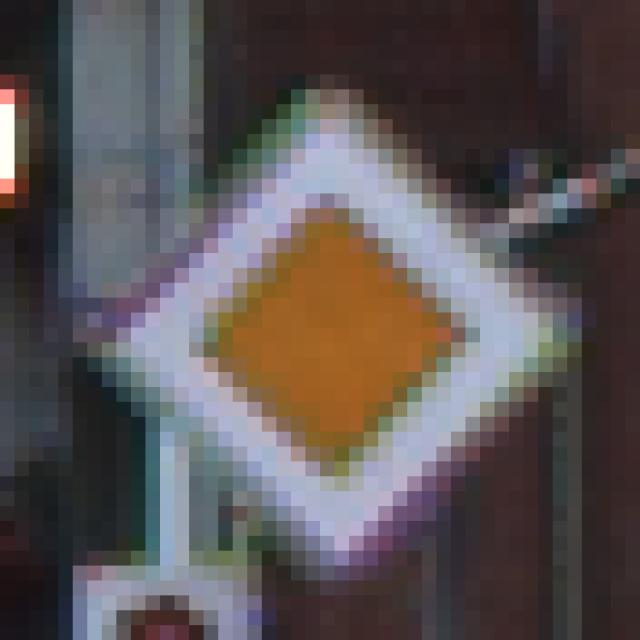Main Road: (89, 76, 569, 567)
